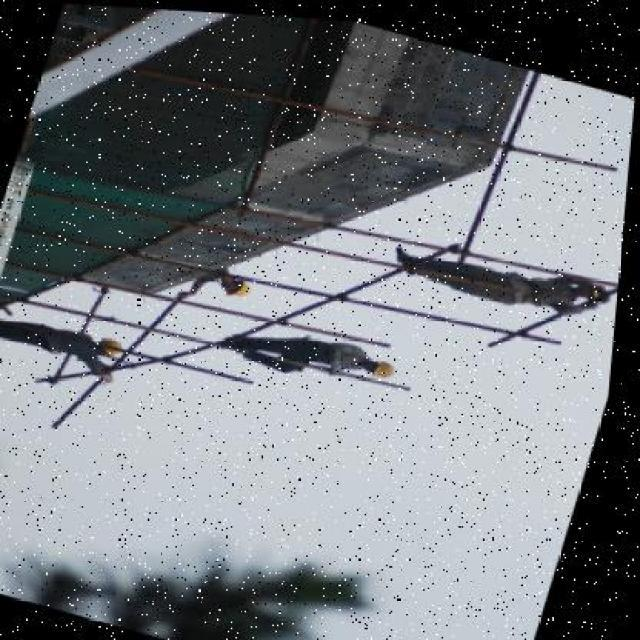helmet: (215, 266, 259, 297), (102, 331, 133, 359), (377, 354, 403, 376)
